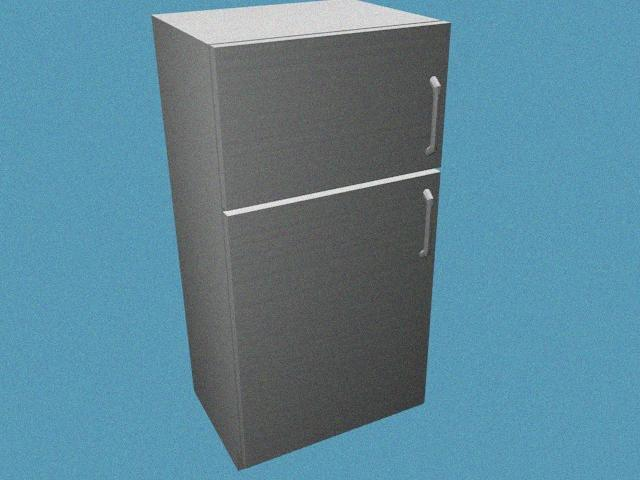cabinet_door: (238, 193, 432, 436), (222, 36, 446, 188)
handle: (421, 69, 444, 162), (415, 184, 436, 264)
